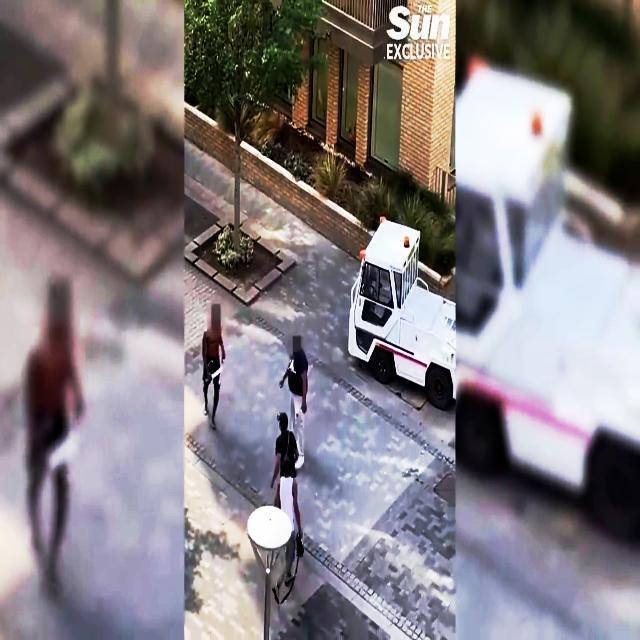Knife: (204, 362, 236, 386)
